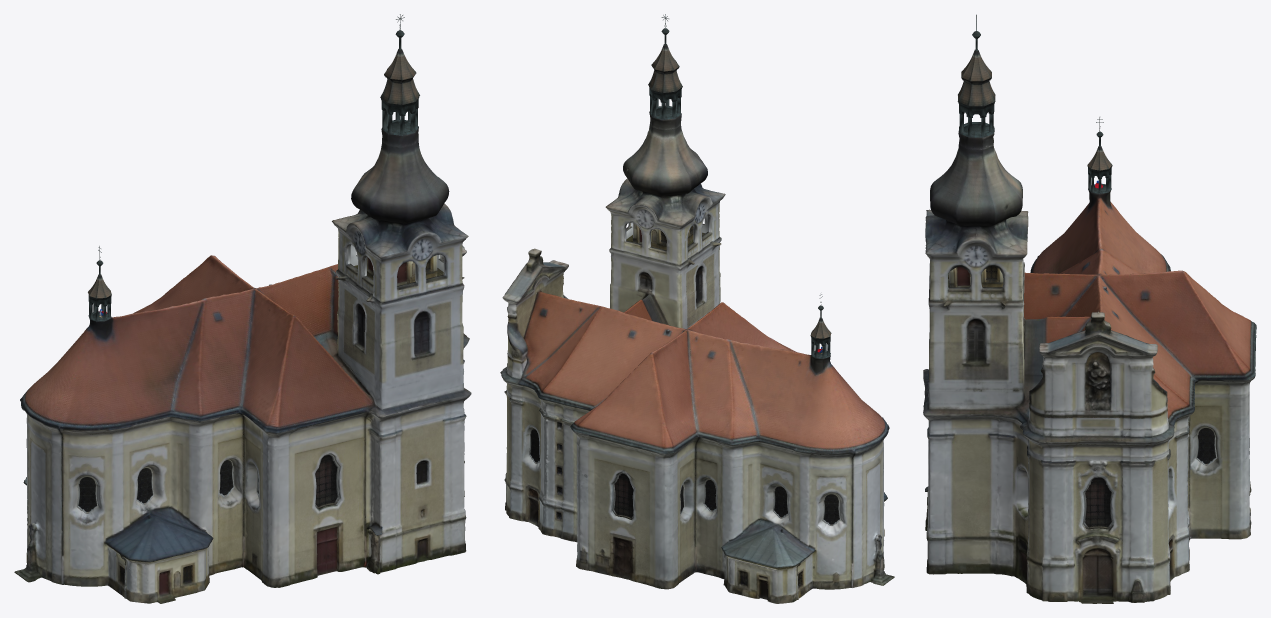
3 views of the same model, side by side, from view 1: azimuth 30°, elevation 25°; view 2: azimuth 150°, elevation 25°; view 3: azimuth 270°, elevation 25° (orthographic). The views are drawn at different scales.
Visible parts, largest first — view 1: Church; view 2: Church; view 3: Church.
Part boxes in pixels (bbox=[...]): Church: bbox=[14, 14, 471, 603]; Church: bbox=[500, 14, 894, 603]; Church: bbox=[923, 14, 1256, 603].
Bounding box in the file's own units: 44.07 × 53.04 × 29.8.
9 materials, 9 textured.
